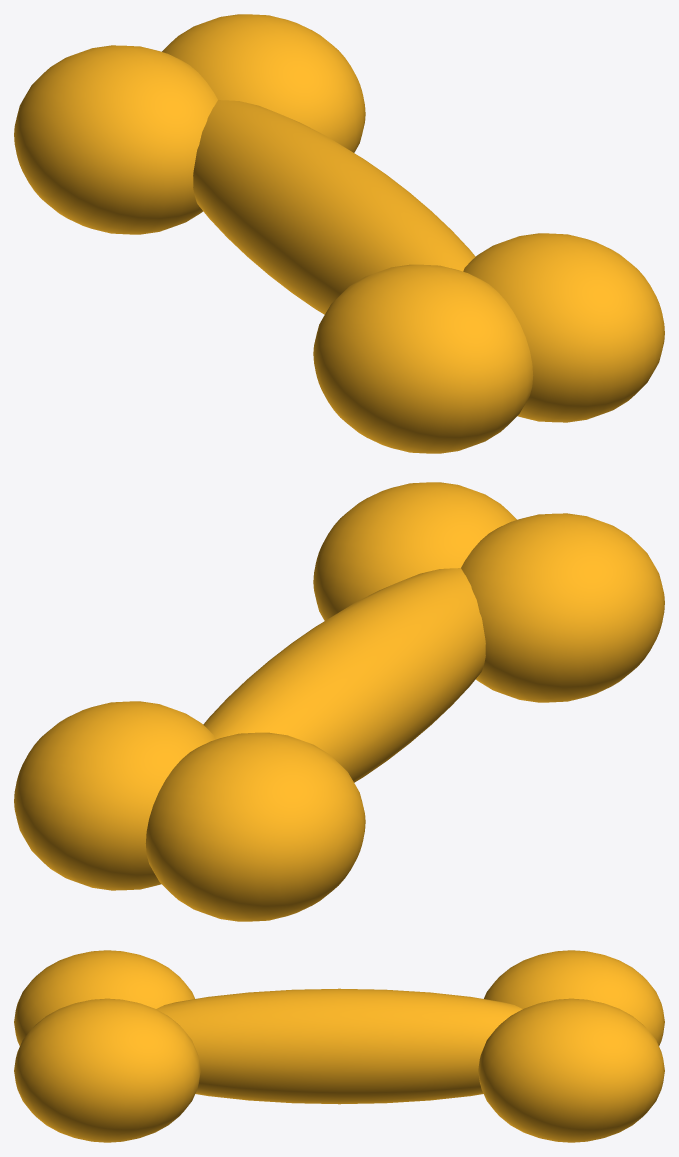
The model's file is golden-bone.glb.
The picture shows the model from 3 angles, top to bottom: view 1: azimuth 30°, elevation 25°; view 2: azimuth 150°, elevation 25°; view 3: azimuth 270°, elevation 25°; orthographic projection. The views are drawn at different scales.
Parts seen in each view (by area): view 1: GoldenBone; view 2: GoldenBone; view 3: GoldenBone.
Part boxes in pixels (x1=…): GoldenBone: x1=14, y1=14, x2=664, y2=453; GoldenBone: x1=14, y1=482, x2=664, y2=921; GoldenBone: x1=14, y1=950, x2=664, y2=1142.
Bounding box in the file's own units: 1.17 × 0.5704 × 2.68.
Materials: 1 (1 with a texture image).
